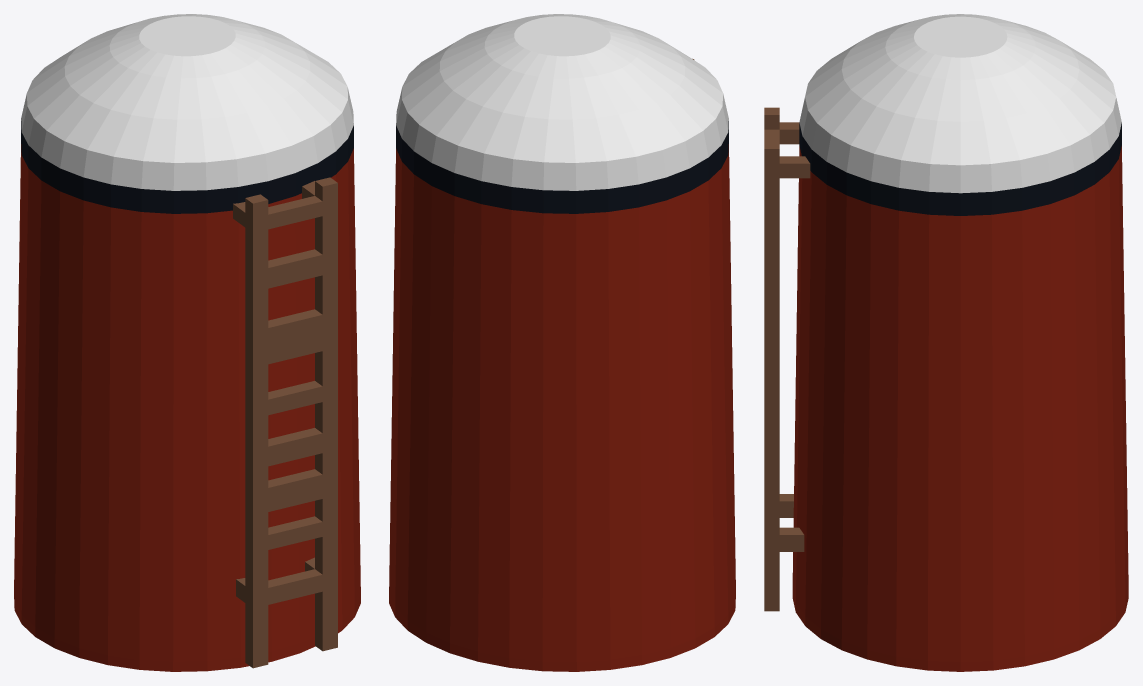
File: container.fbx
3 views of the same model, side by side, from view 1: azimuth 30°, elevation 25°; view 2: azimuth 150°, elevation 25°; view 3: azimuth 270°, elevation 25° (orthographic).
Visible parts, largest first — view 1: Cube; view 2: Cube; view 3: Cube.
Part boxes in pixels (<box>): Cube: <box>14,14,360,671</box>; Cube: <box>389,14,735,671</box>; Cube: <box>764,14,1128,671</box>.
Size of the model in its own units: 553 by 985 by 576.
